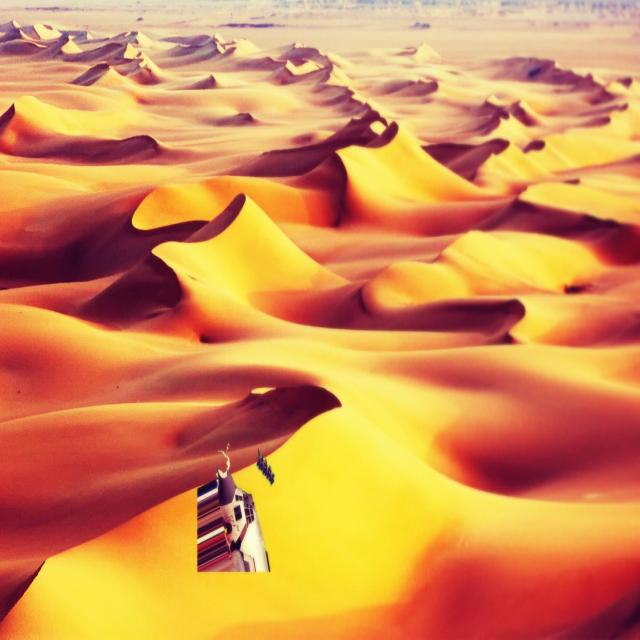airplane: (217, 451, 269, 572)
